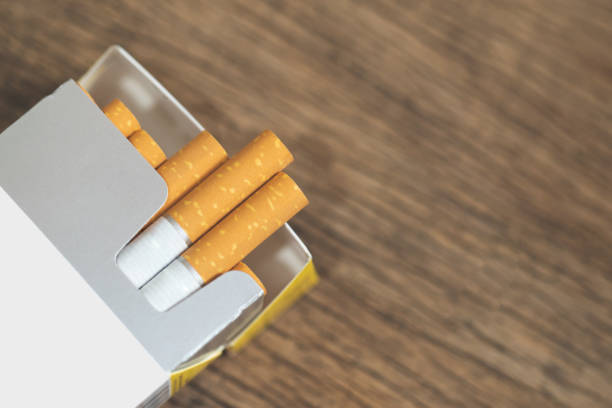cigarette: (0, 42, 319, 408), (113, 128, 295, 289), (140, 169, 310, 314), (145, 130, 229, 227), (102, 96, 143, 136), (130, 128, 169, 168)
